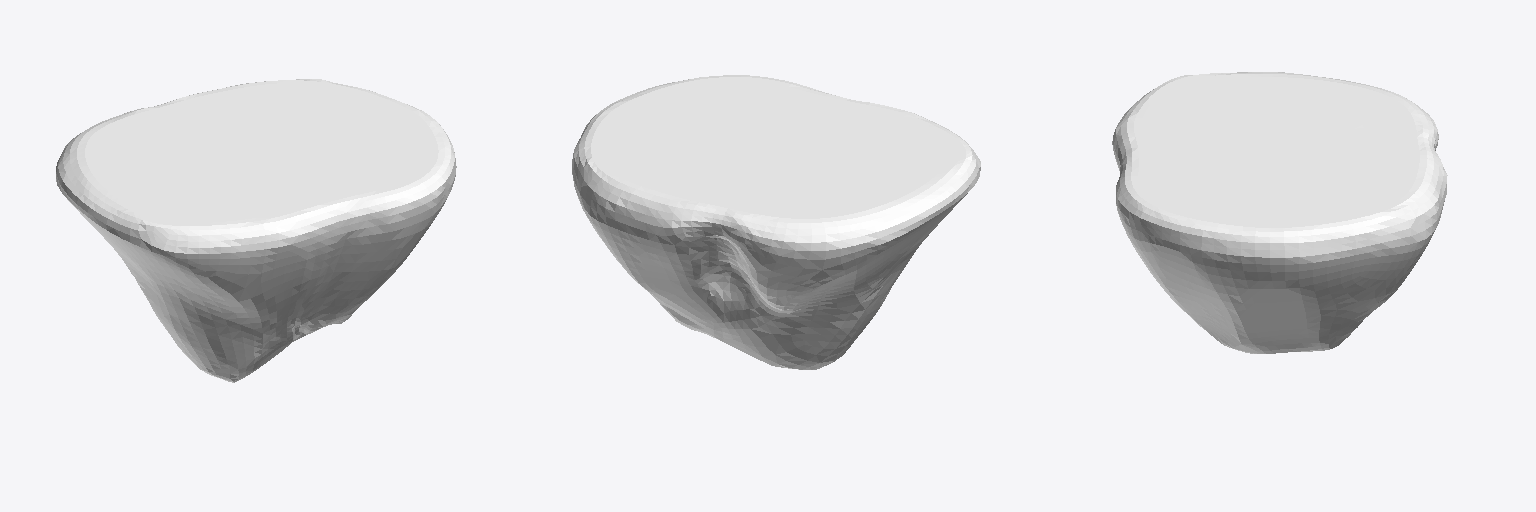
The model's file is mainLand.obj.
The picture shows the model from 3 angles: view 1: azimuth 30°, elevation 25°; view 2: azimuth 150°, elevation 25°; view 3: azimuth 270°, elevation 25°; orthographic projection.
Visible parts, largest first — view 1: Volume65; view 2: Volume65; view 3: Volume65.
Boxes of the visible parts, box(x1,y1,x2,y2) form: Volume65: box(56, 79, 456, 382); Volume65: box(572, 75, 980, 369); Volume65: box(1112, 72, 1447, 353).
Size of the model in its own units: 246 by 140 by 202.